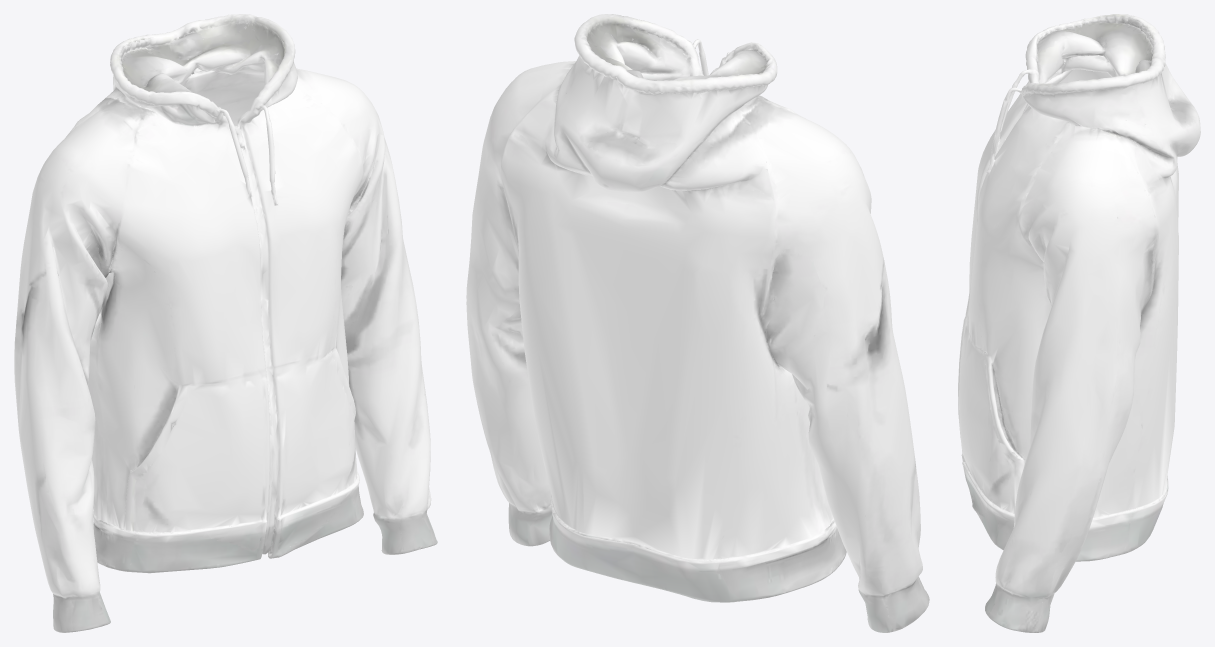
The model's file is meshy_hoodie_zip.glb.
3 views of the same model, side by side, from view 1: azimuth 30°, elevation 25°; view 2: azimuth 150°, elevation 25°; view 3: azimuth 270°, elevation 25° (orthographic). The views are drawn at different scales.
Size of the model in its own units: 1.47 by 1.9 by 0.8215.
Materials: 1 (1 with a texture image).
